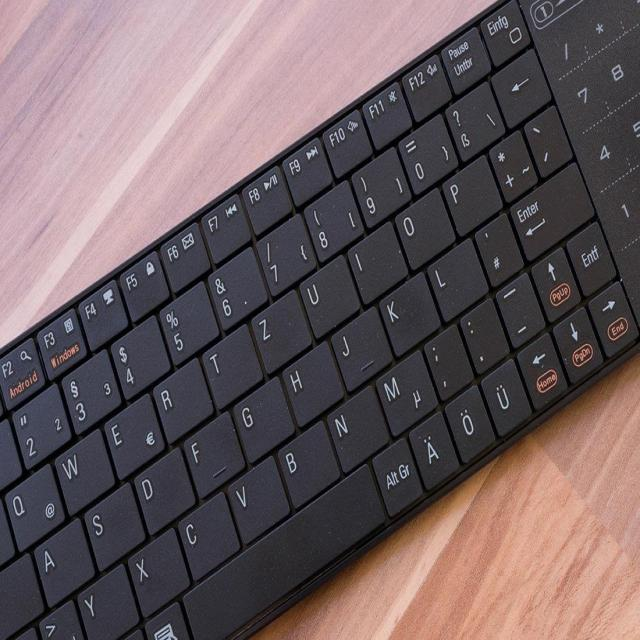0: (397, 112, 458, 190)
2: (11, 378, 71, 463)
3: (59, 347, 120, 431)
4: (110, 313, 170, 394)
5: (156, 279, 219, 363)
6: (204, 239, 268, 329)
7: (255, 209, 315, 291)
8: (304, 176, 363, 257)
9: (351, 146, 410, 224)
a: (33, 514, 93, 601)
accent: (522, 101, 572, 175)
ae: (408, 411, 459, 490)
altgr-right: (371, 435, 421, 515)
b: (275, 418, 340, 504)
c: (176, 489, 239, 578)
comma: (422, 322, 472, 399)
d: (131, 443, 195, 531)
del: (489, 44, 551, 123)
e: (101, 392, 165, 475)
enter: (507, 158, 594, 261)
f: (181, 407, 244, 495)
g: (231, 373, 294, 460)
h: (280, 338, 343, 423)
hash: (473, 209, 522, 287)
i: (347, 218, 407, 299)
j: (330, 303, 391, 388)
k: (378, 268, 439, 353)
keyboard: (2, 2, 638, 637)
l: (426, 235, 487, 319)
less: (36, 602, 83, 639)
m: (375, 349, 437, 433)
minus: (495, 271, 545, 348)
n: (325, 383, 388, 467)
o: (392, 186, 456, 266)
oe: (444, 382, 495, 461)
p: (442, 153, 502, 236)
plus: (487, 127, 536, 200)
point: (459, 293, 508, 372)
q: (3, 461, 67, 549)
r: (152, 356, 213, 440)
s: (82, 479, 145, 566)
space: (183, 465, 389, 639)
ss: (447, 79, 504, 162)
t: (201, 322, 262, 405)
u: (297, 252, 360, 335)
ue: (480, 358, 531, 438)
v: (226, 455, 289, 541)
w: (53, 427, 114, 512)
x: (126, 526, 189, 617)
y: (74, 563, 141, 636)
z: (248, 288, 311, 371)
